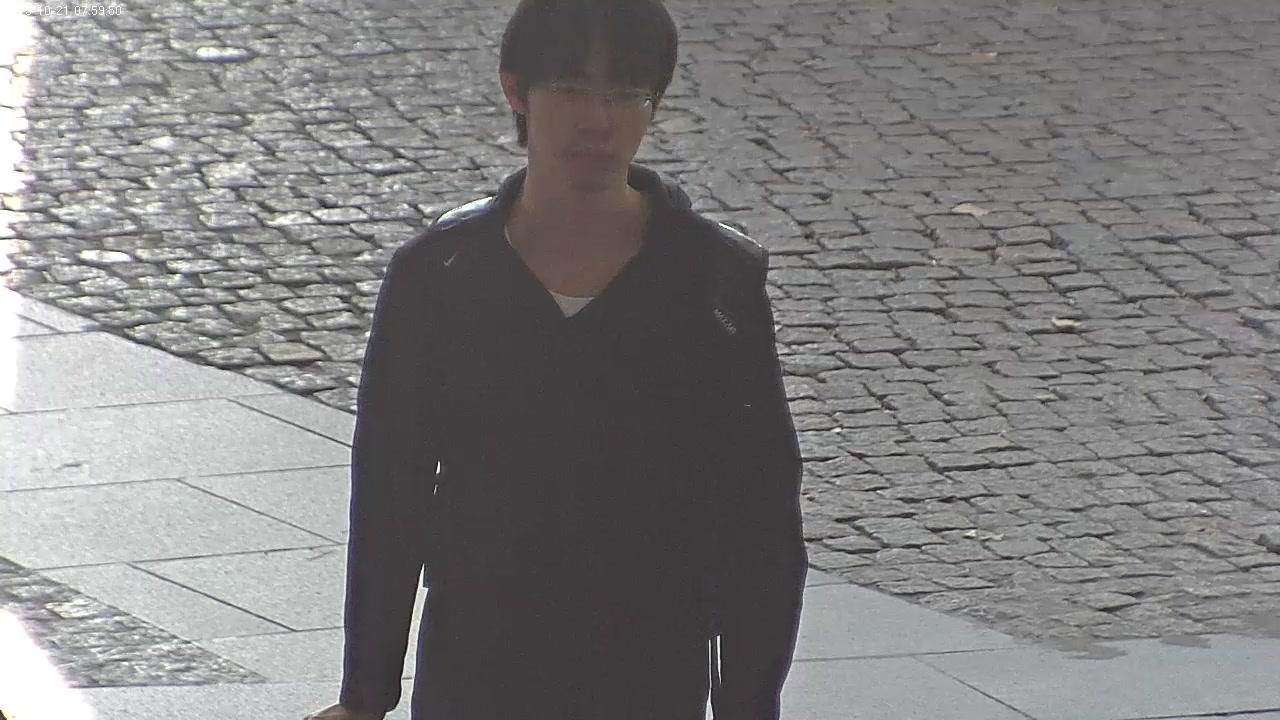face: (529, 40, 654, 184)
